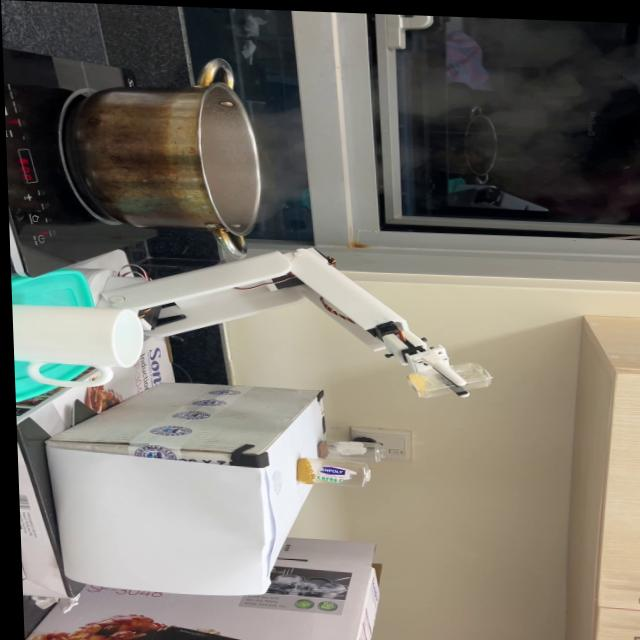cooking_pot: (66, 53, 263, 257)
curry_powder: (288, 456, 311, 482)
garlic_powder: (405, 368, 425, 389)
maggie_open: (316, 439, 329, 454)
